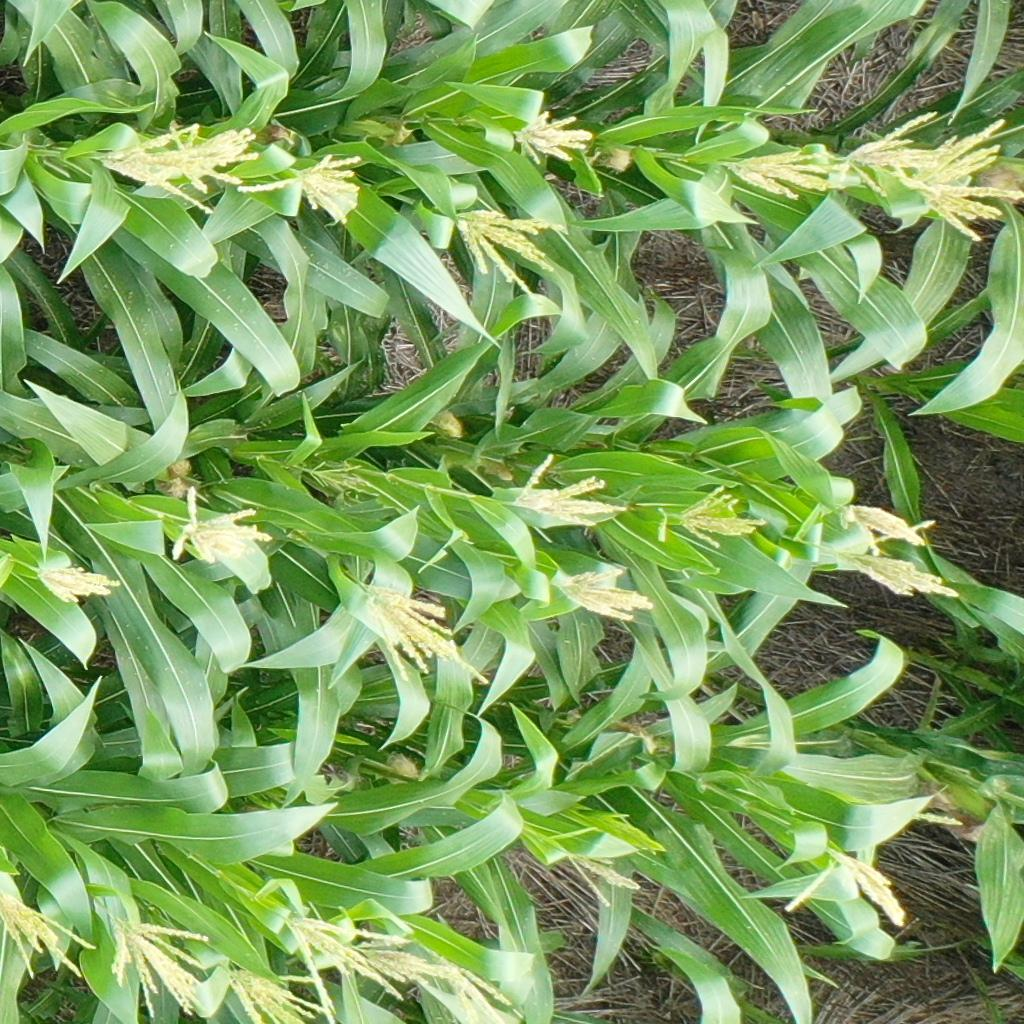Tassel: (908, 117, 1024, 242), (282, 913, 411, 1024), (362, 583, 490, 685), (97, 124, 218, 216), (783, 844, 909, 929), (827, 519, 960, 599), (453, 207, 564, 302), (109, 915, 210, 1018), (1, 885, 98, 982), (237, 153, 365, 225), (507, 451, 627, 525), (849, 111, 953, 196), (170, 484, 274, 567), (659, 483, 765, 549), (721, 149, 849, 201), (170, 121, 258, 194), (220, 963, 322, 1024), (548, 565, 653, 621), (434, 955, 518, 1024), (510, 110, 594, 165), (562, 846, 640, 905), (355, 941, 457, 984), (837, 499, 927, 546), (34, 564, 123, 605), (310, 460, 380, 499)
